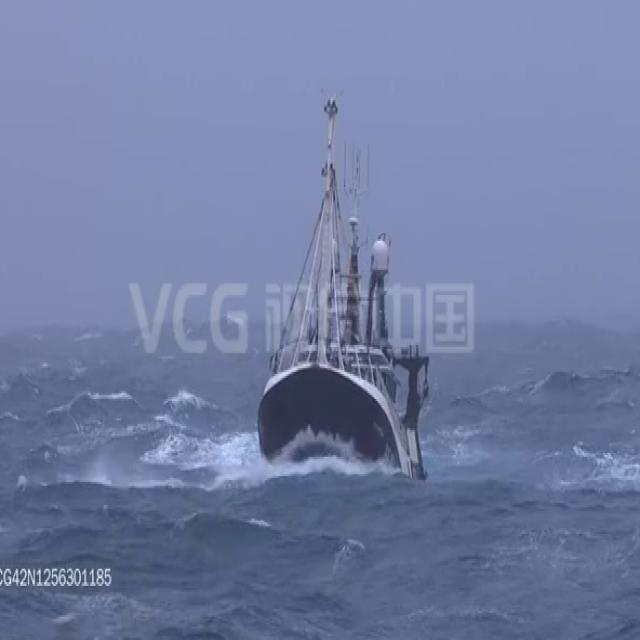houseboat: (253, 146, 427, 483)
